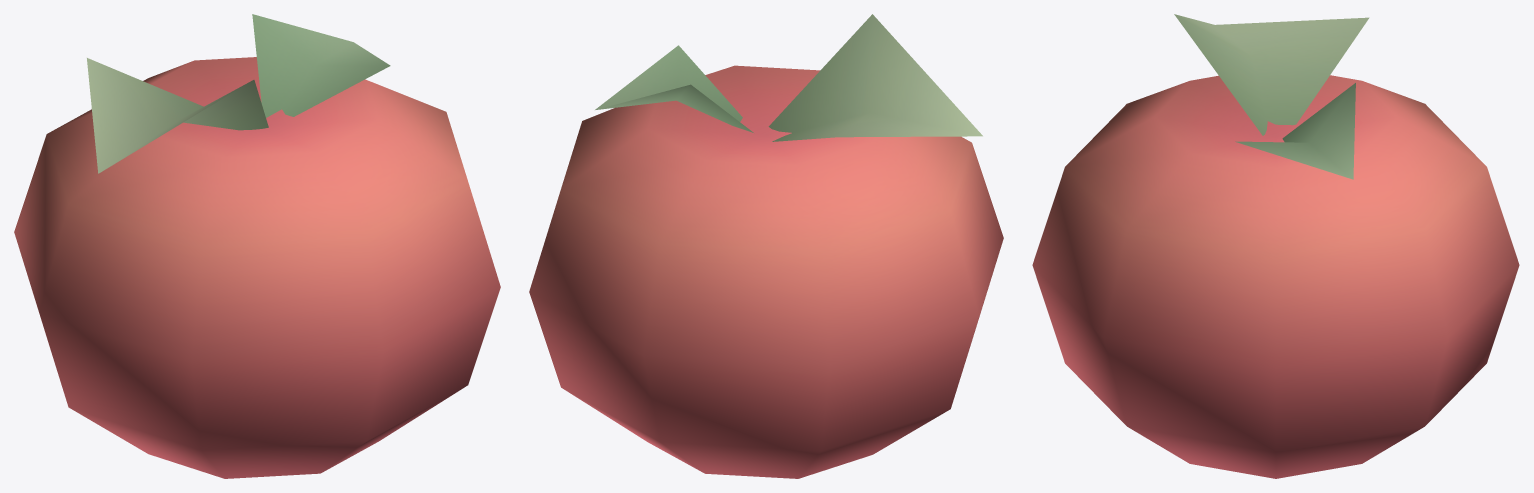
Rendered from SM_Tomato_01.fbx.
3 views of the same model, side by side, from view 1: azimuth 30°, elevation 25°; view 2: azimuth 150°, elevation 25°; view 3: azimuth 270°, elevation 25° (orthographic). The views are drawn at different scales.
Parts seen in each view (by area): view 1: SM_Tomato_01; view 2: SM_Tomato_01; view 3: SM_Tomato_01.
Part boxes in pixels (x1,y1,x2,y2): SM_Tomato_01: (14, 14, 500, 478); SM_Tomato_01: (529, 14, 1003, 478); SM_Tomato_01: (1032, 14, 1519, 478).
Bounding box in the file's own units: 80.16 × 70.28 × 80.16.
Materials: 1 (1 with a texture image).
